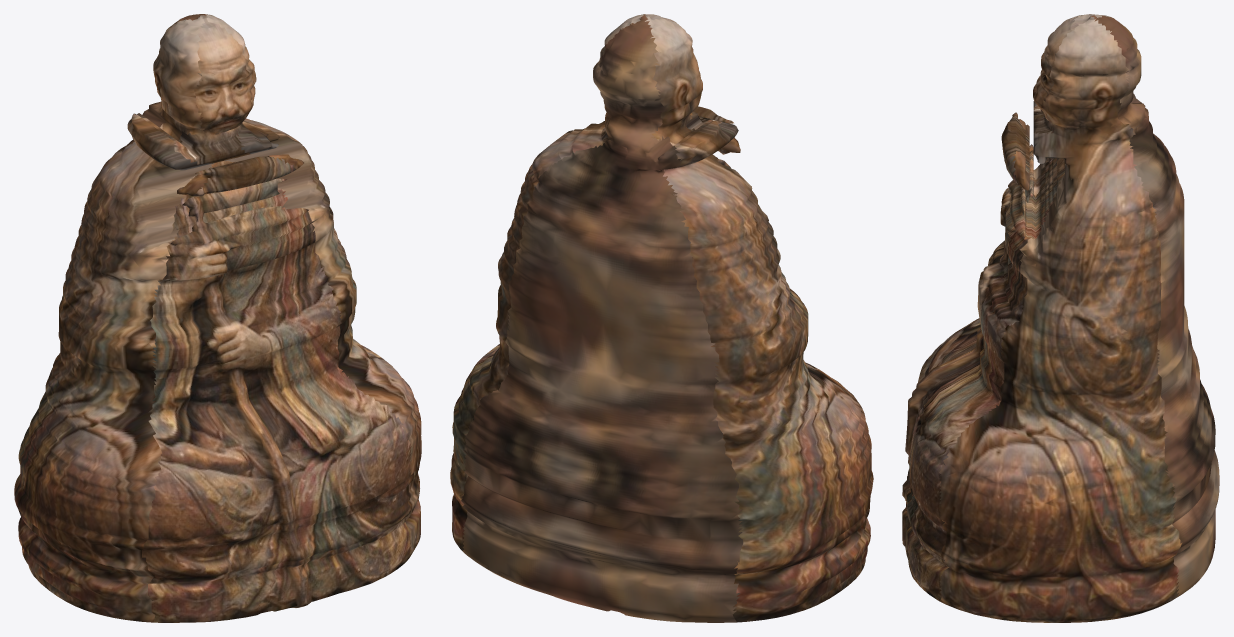
The model's file is hongren.glb.
The picture shows the model from 3 angles, left to right: view 1: azimuth 30°, elevation 25°; view 2: azimuth 150°, elevation 25°; view 3: azimuth 270°, elevation 25°; orthographic projection. The views are drawn at different scales.
Visible parts, largest first — view 1: hongren; view 2: hongren; view 3: hongren.
Boxes of the visible parts, x1,y1,x2,y2 form: hongren: [14, 14, 421, 622]; hongren: [450, 14, 873, 622]; hongren: [902, 14, 1219, 622].
Size of the model in its own units: 0.7161 by 1.01 by 0.5472.
Materials: 1 (1 with a texture image).
